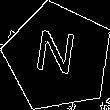N_S: (34, 30, 82, 85)
